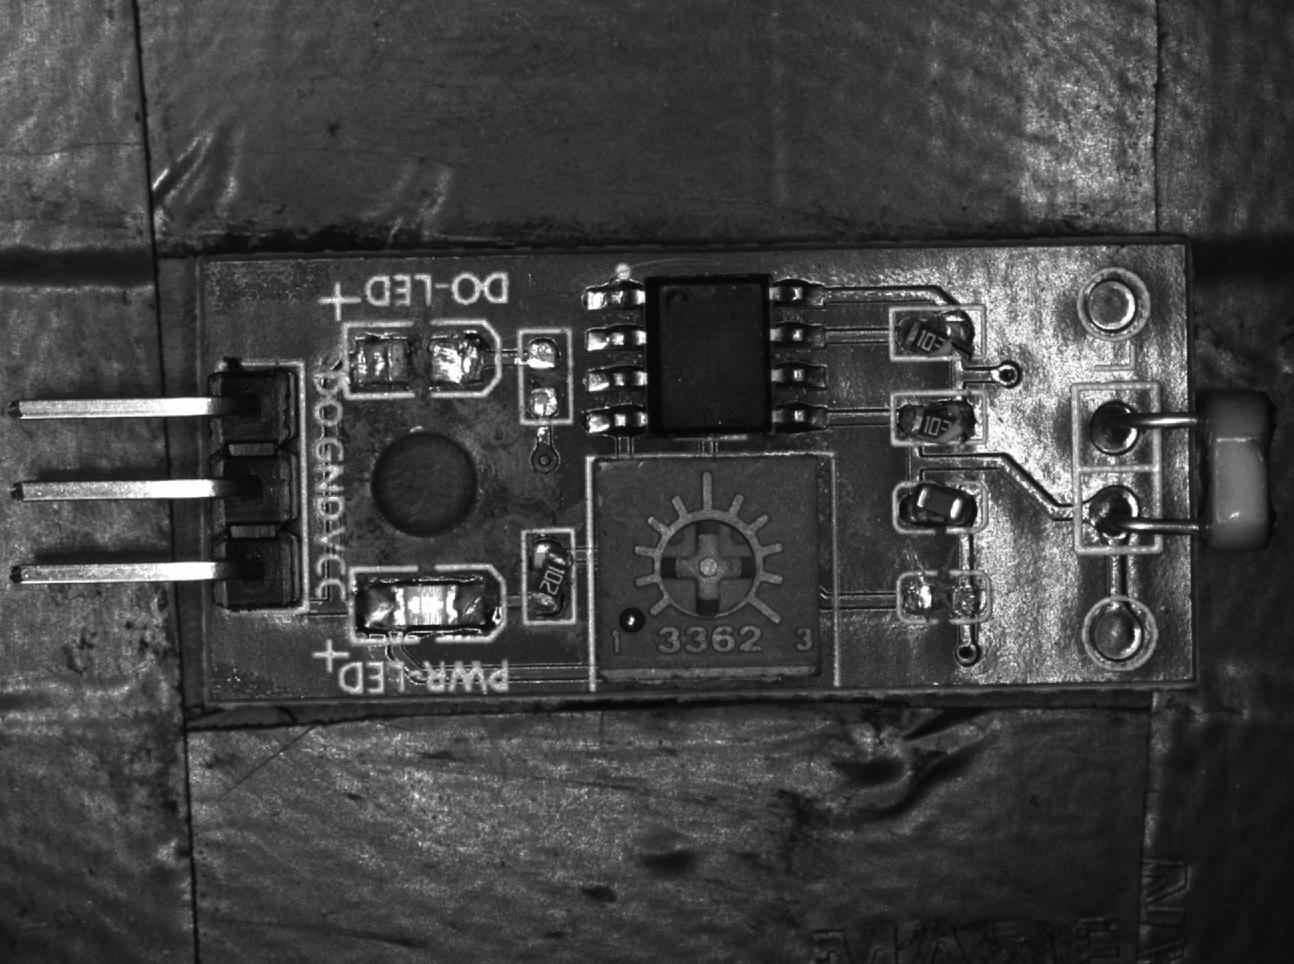lifted: (892, 307, 986, 364), (891, 392, 986, 446), (893, 481, 987, 534), (524, 529, 575, 626)
miss: (897, 573, 991, 625), (519, 330, 572, 422)
